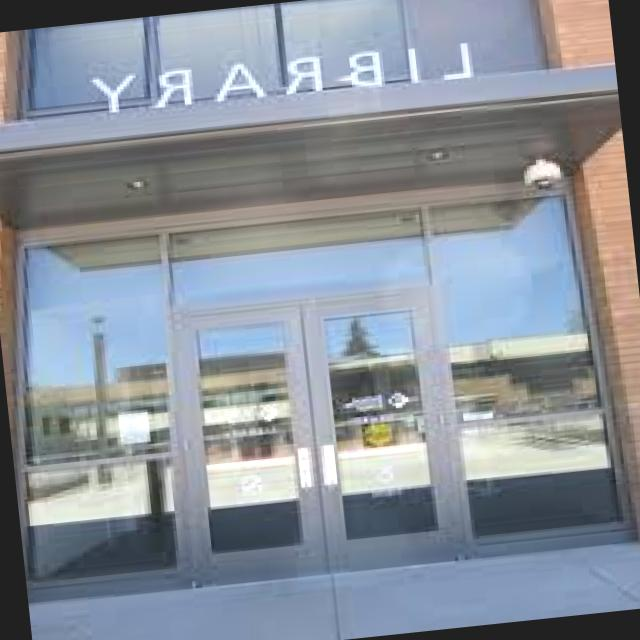door: (168, 286, 474, 589)
